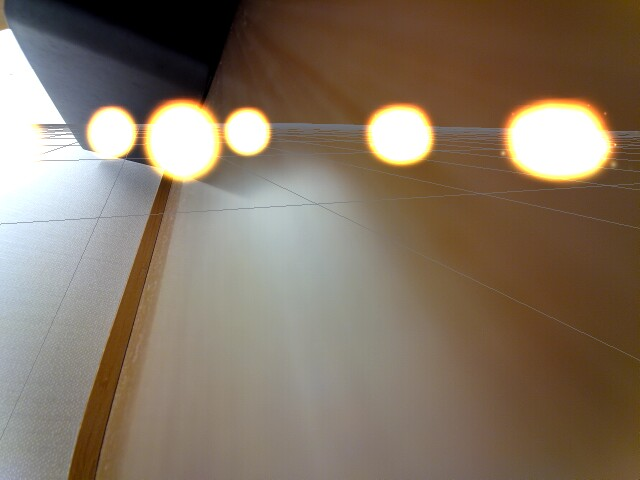firebig: (142, 99, 221, 189)
